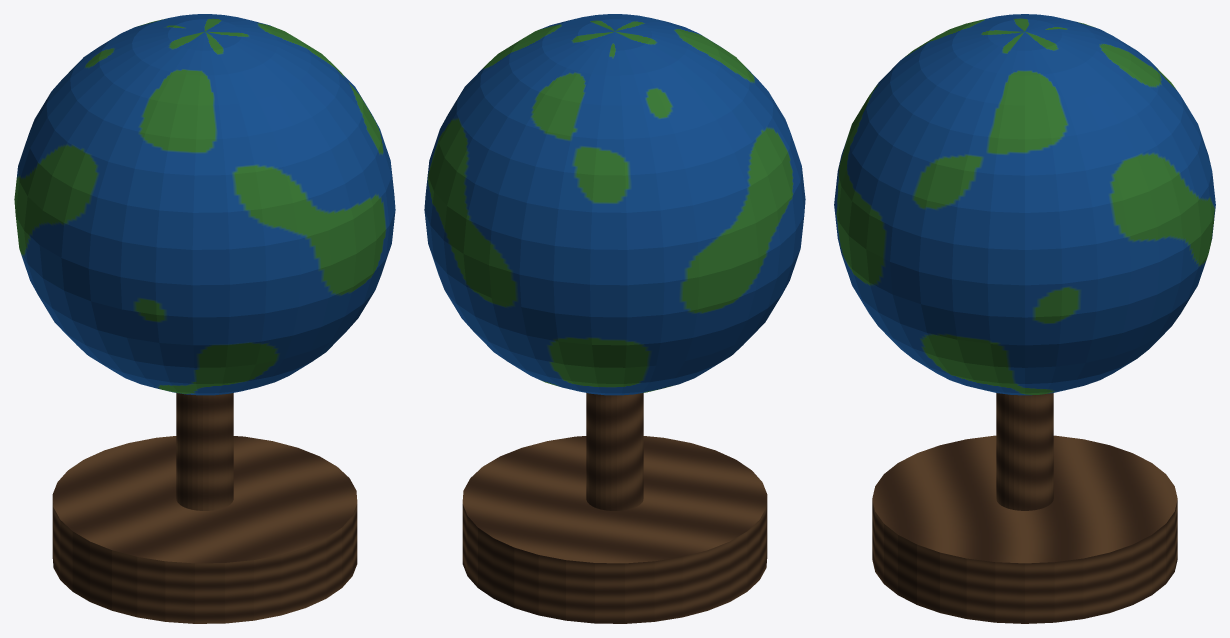
The model's file is desk_globe.glb.
3 renders of one model, left to right at view 1: azimuth 30°, elevation 25°; view 2: azimuth 150°, elevation 25°; view 3: azimuth 270°, elevation 25°, orthographic.
Parts seen in each view (by area): view 1: desk_globe; view 2: desk_globe; view 3: desk_globe.
Boxes of the visible parts, x1=… form: desk_globe: x1=14, y1=14, x2=395, y2=623; desk_globe: x1=424, y1=14, x2=805, y2=623; desk_globe: x1=834, y1=14, x2=1215, y2=623.
Bounding box in the file's own units: 0.08 × 0.122 × 0.08.
2 materials, 2 textured.
